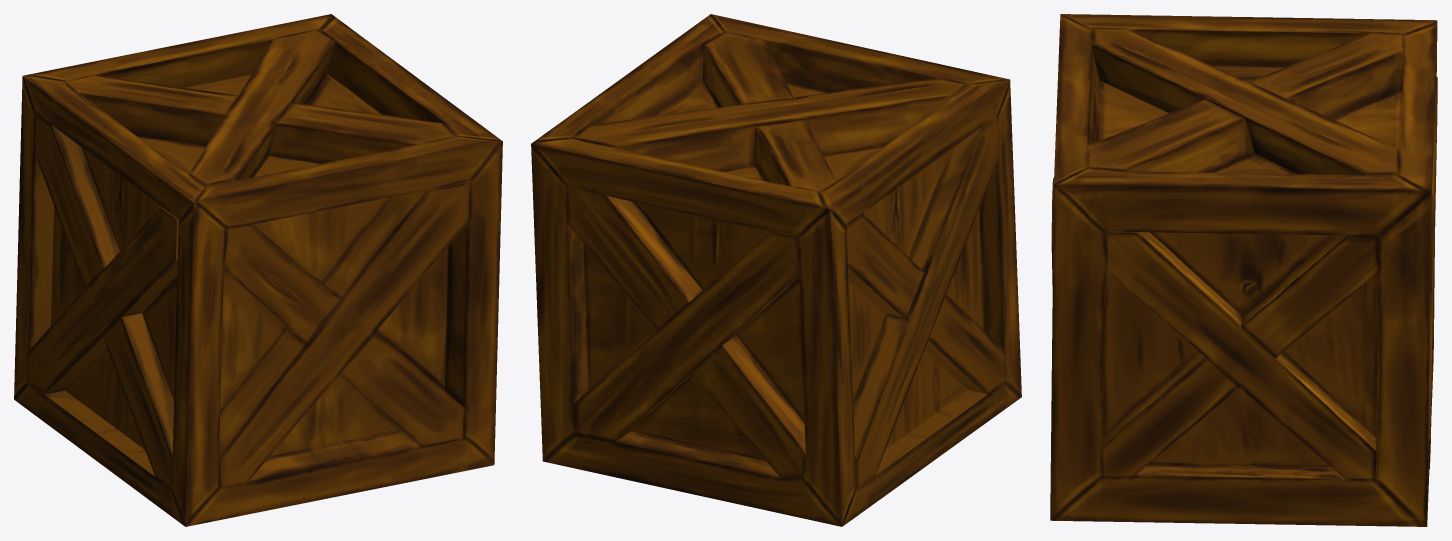
3 renders of one model, left to right at view 1: azimuth 30°, elevation 25°; view 2: azimuth 150°, elevation 25°; view 3: azimuth 270°, elevation 25°, orthographic. The views are drawn at different scales.
Parts seen in each view (by area): view 1: Cube; view 2: Cube; view 3: Cube.
Boxes of the visible parts, left/top/right/bottom form: Cube: left=14, top=14, right=502, bottom=526; Cube: left=531, top=14, right=1021, bottom=526; Cube: left=1050, top=14, right=1437, bottom=526.
Bounding box in the file's own units: 210 × 209 × 206.
